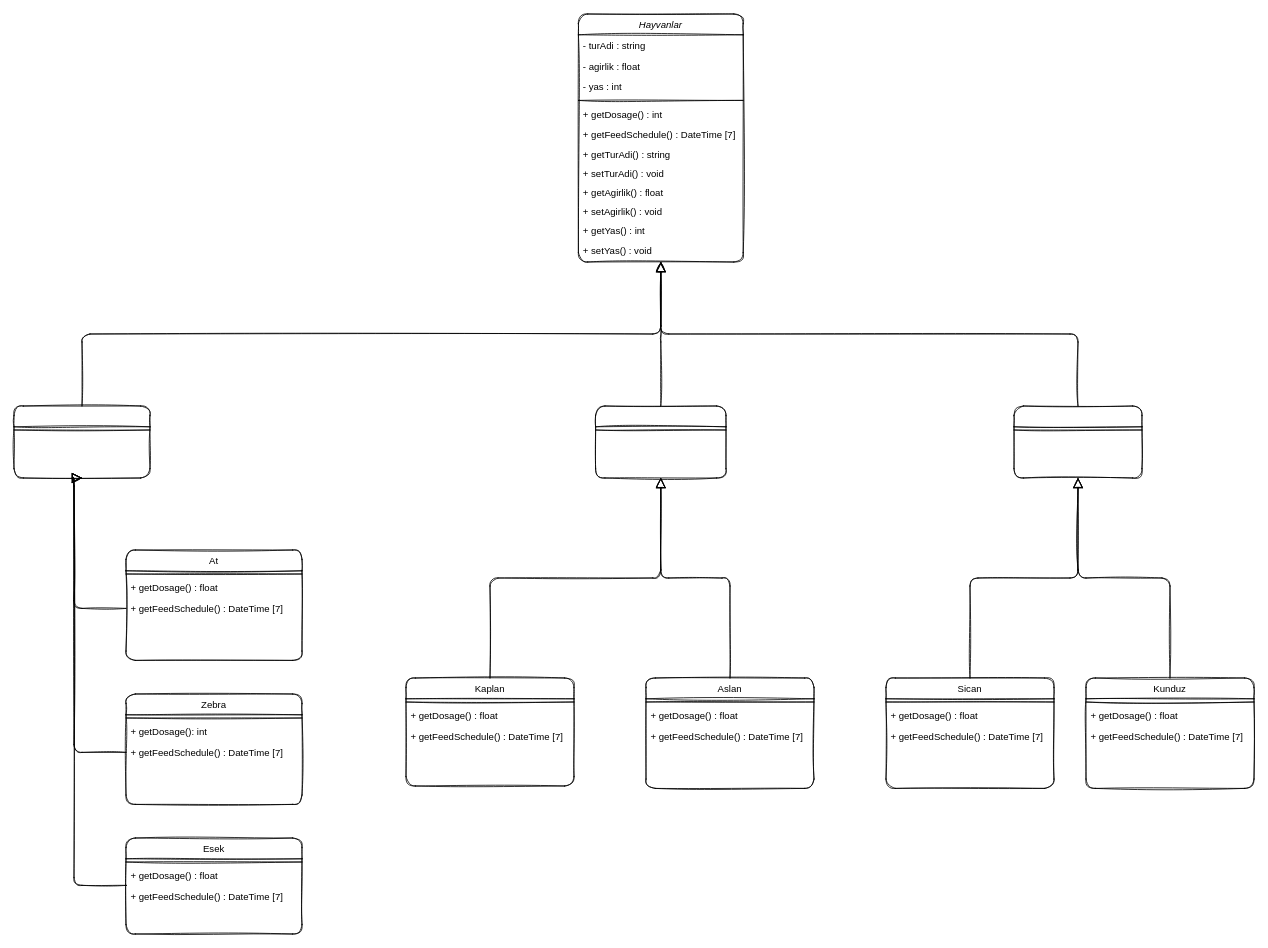
Some shapes in this 1268 by 948 pixel diagram are drawn without their labels. Each missing label, with the centre of its shape:
"Atgiller" goes at [81,441].
"Kedigiller" goes at [660,441].
"Kemirgenler" goes at [1077,441].
